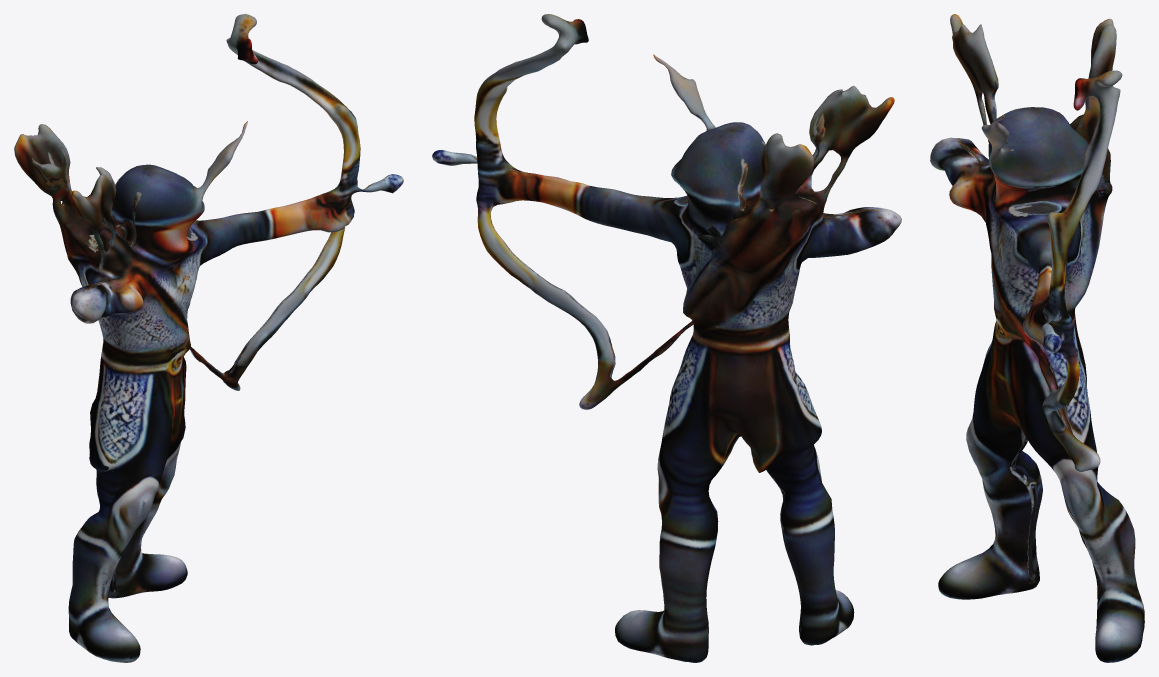
File: Archer.fbx
3 renders of one model, left to right at view 1: azimuth 30°, elevation 25°; view 2: azimuth 150°, elevation 25°; view 3: azimuth 270°, elevation 25°, orthographic. The views are drawn at different scales.
Parts seen in each view (by area): view 1: mesh; view 2: mesh; view 3: mesh.
Part boxes in pixels (x1,y1,x2,y2): mesh: (14,14,403,662); mesh: (432,14,901,662); mesh: (930,14,1144,662).
Bounding box in the file's own units: 71.44 × 99.92 × 30.86.
